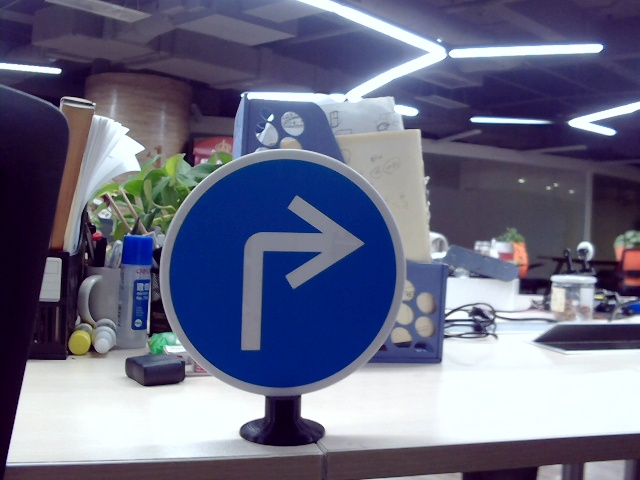turn_right: (222, 189, 355, 354)
